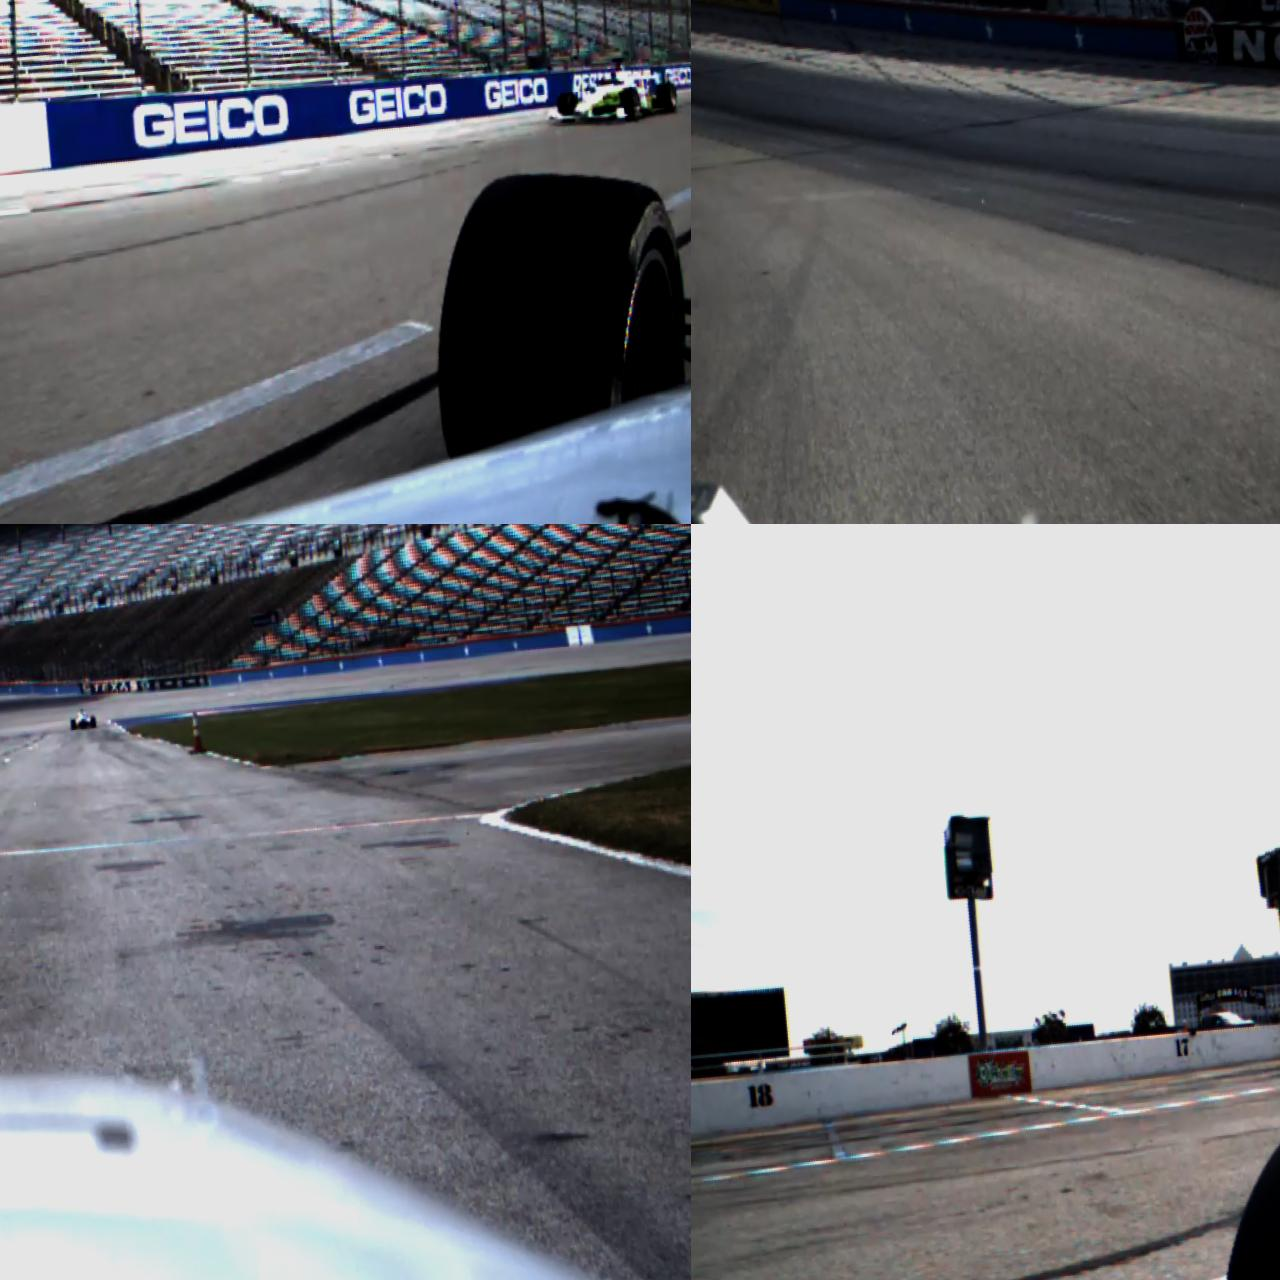AV: (542, 53, 679, 129), (69, 708, 96, 730)
Wheel: (422, 159, 692, 457), (656, 82, 679, 114), (622, 87, 642, 122), (557, 91, 578, 123), (70, 719, 76, 730), (91, 715, 96, 728)
